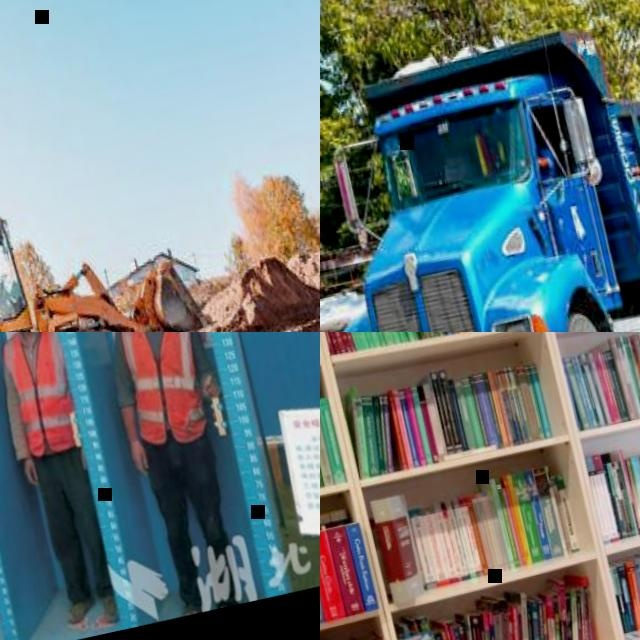Person: (83, 332, 264, 620), (0, 332, 124, 637)
Safety Vest: (112, 332, 216, 451), (0, 332, 83, 458)
machinery: (320, 5, 640, 332), (0, 159, 230, 332)
